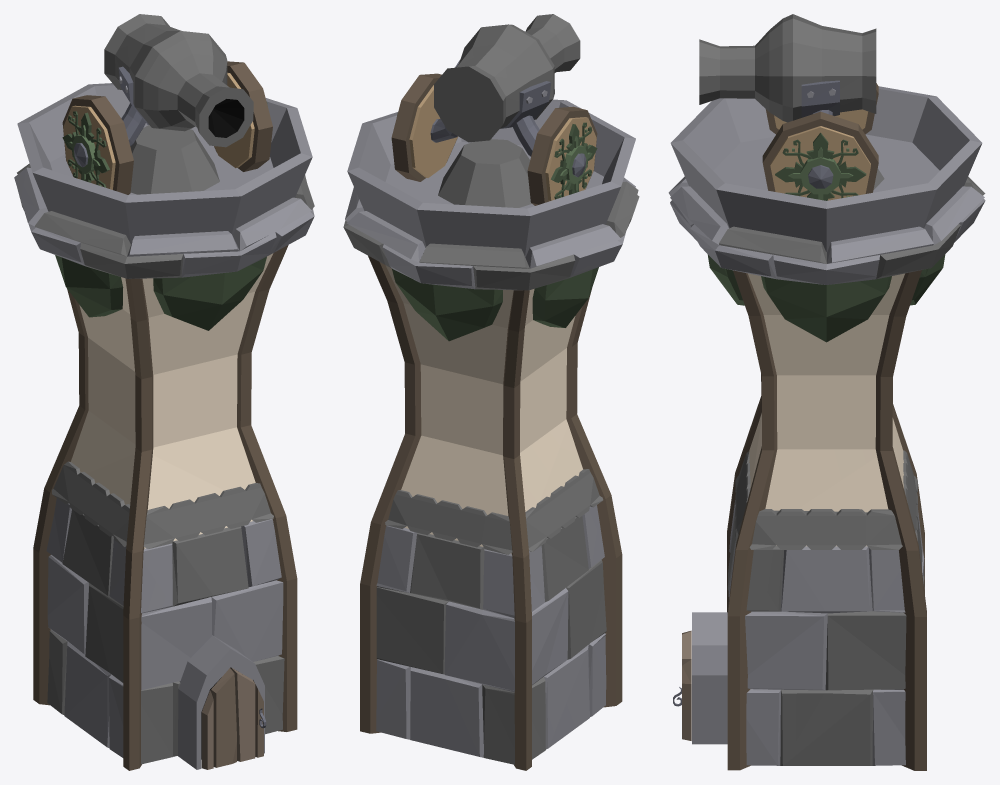
The model's file is Cannon Tower 1.obj.
3 renders of one model, left to right at view 1: azimuth 30°, elevation 25°; view 2: azimuth 150°, elevation 25°; view 3: azimuth 270°, elevation 25°, orthographic. The views are drawn at different scales.
Visible parts, largest first — view 1: Cannon_tower_LVL_1; view 2: Cannon_tower_LVL_1; view 3: Cannon_tower_LVL_1.
Boxes of the visible parts, box(x1,y1,x2,y2) form: Cannon_tower_LVL_1: box(14, 14, 314, 770); Cannon_tower_LVL_1: box(343, 14, 639, 770); Cannon_tower_LVL_1: box(668, 14, 985, 770).
Bounding box in the file's own units: 6.04 × 14.88 × 6.03.
Materials: 1 (1 with a texture image).
